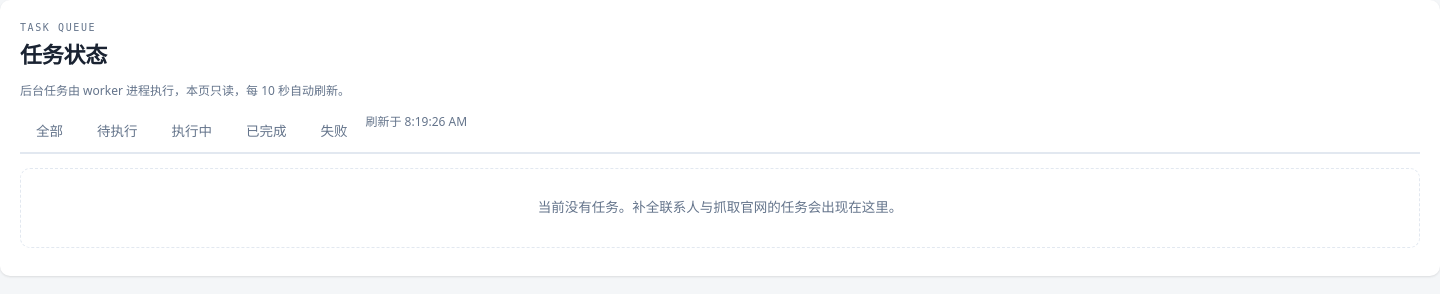
Test: JobsView › 空结果与失败请求的可见状态
The image size is (1440, 294).
Check: the text "当前没有任务。补全联系人与抓取官网的任务会出现在这里。" is shown, box 20,168 -> 1420,248
Click the tab with test id "job-filter-all" at {"x": 50, "y": 133}, box 20,112 -> 79,154
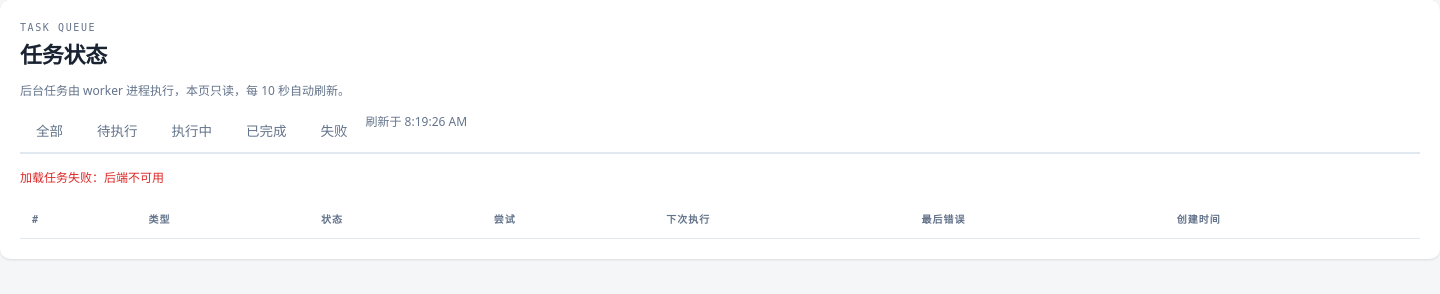
Check: the text "加载任务失败：后端不可用" is shown, box 20,169 -> 164,186
